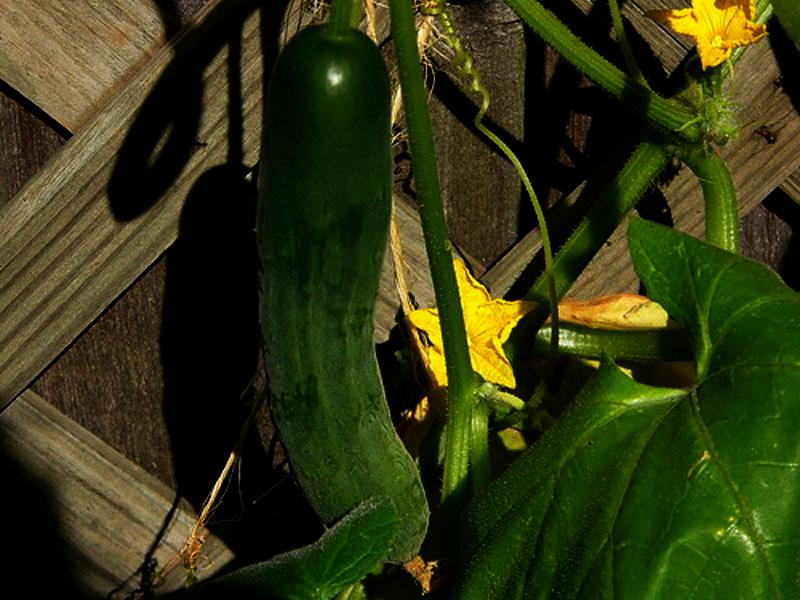Cucumber: (253, 29, 429, 594)
